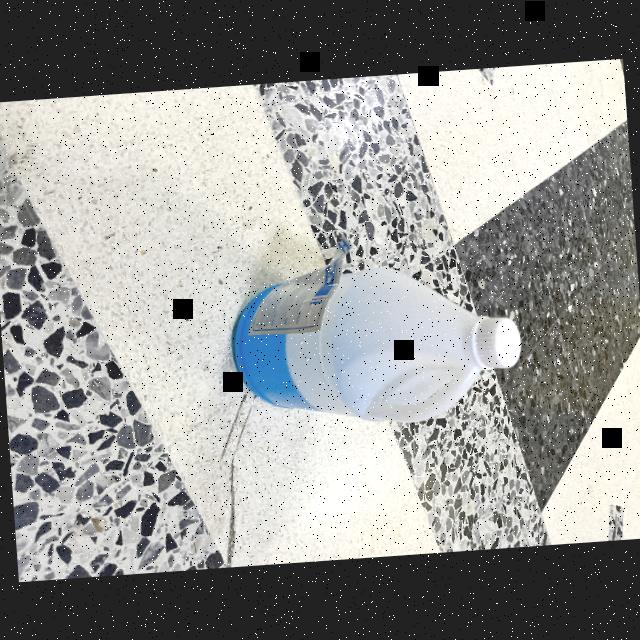chemical_plastic_gallon: (214, 220, 531, 452)
